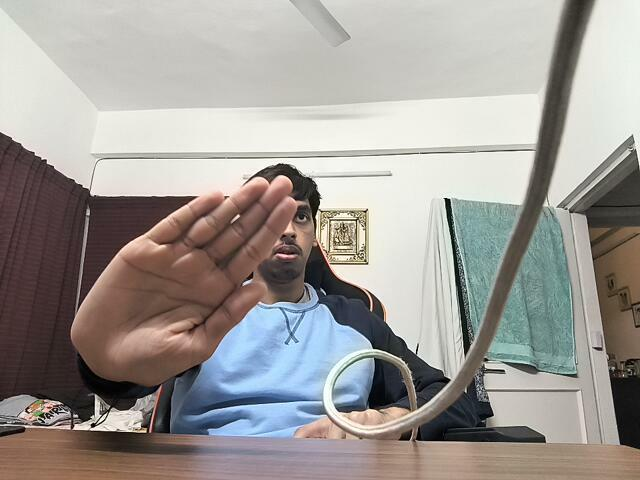STOP: (65, 175, 300, 389)
